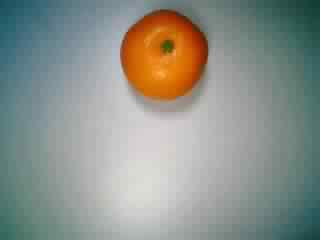orange: (114, 6, 215, 104)
